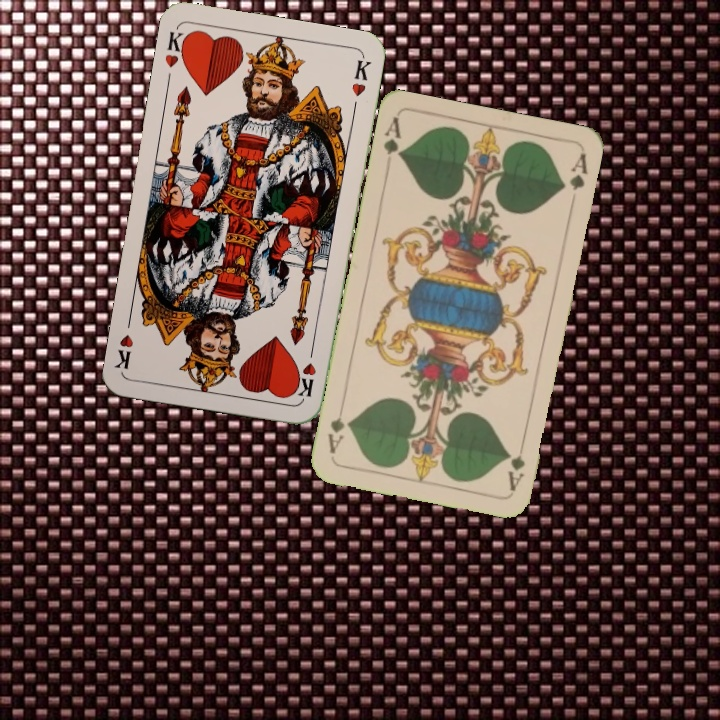GA: (504, 434, 528, 493), (379, 114, 405, 161)
HK: (294, 341, 319, 400), (160, 27, 192, 70)
